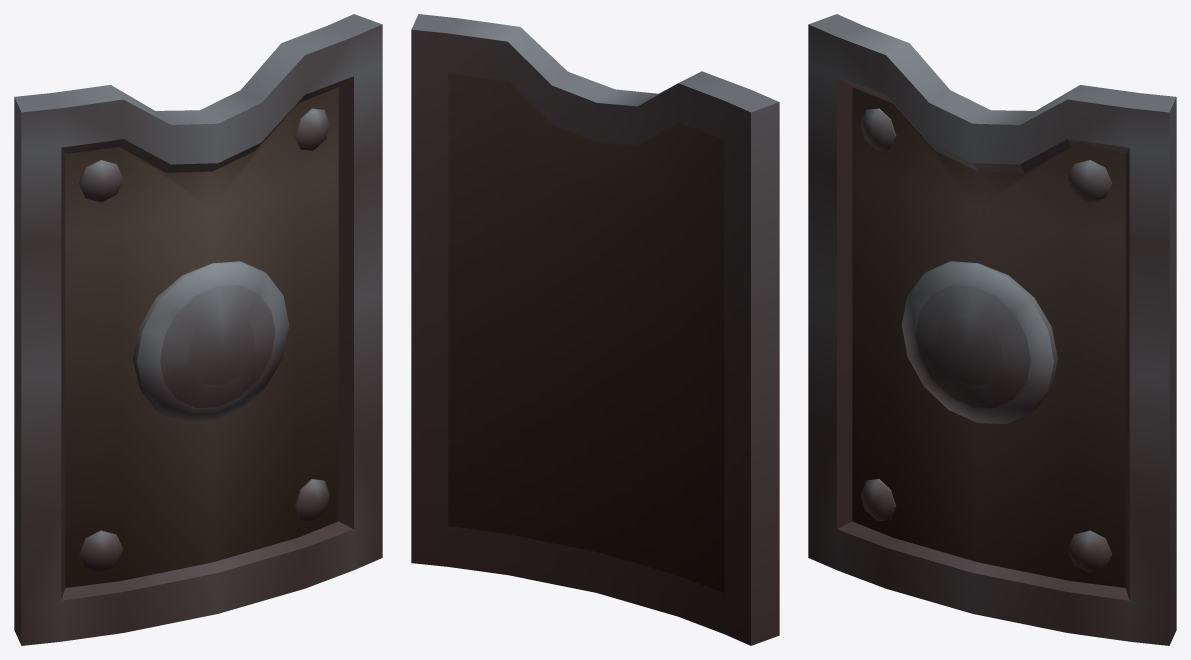
Rendered from Equip_Shield_10_1.FBX.
3 renders of one model, left to right at view 1: azimuth 30°, elevation 25°; view 2: azimuth 150°, elevation 25°; view 3: azimuth 330°, elevation 25°, orthographic.
Visible parts, largest first — view 1: Equip_Shield_10_1; view 2: Equip_Shield_10_1; view 3: Equip_Shield_10_1.
Part boxes in pixels (left/top/right/bottom): Equip_Shield_10_1: left=14, top=14, right=382, bottom=645; Equip_Shield_10_1: left=411, top=14, right=779, bottom=645; Equip_Shield_10_1: left=808, top=14, right=1176, bottom=645.
Size of the model in its own units: 46.44 by 65.57 by 8.84.
